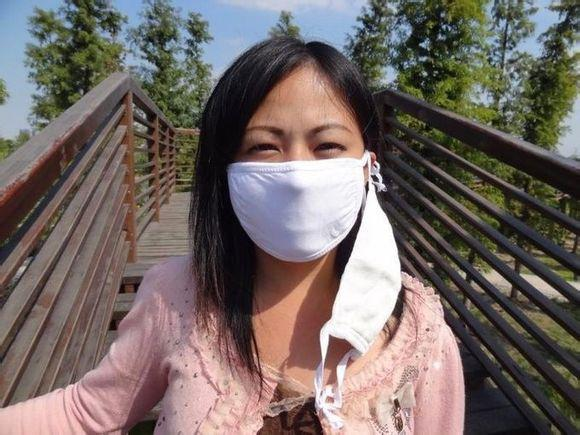OK: (231, 117, 368, 261)
